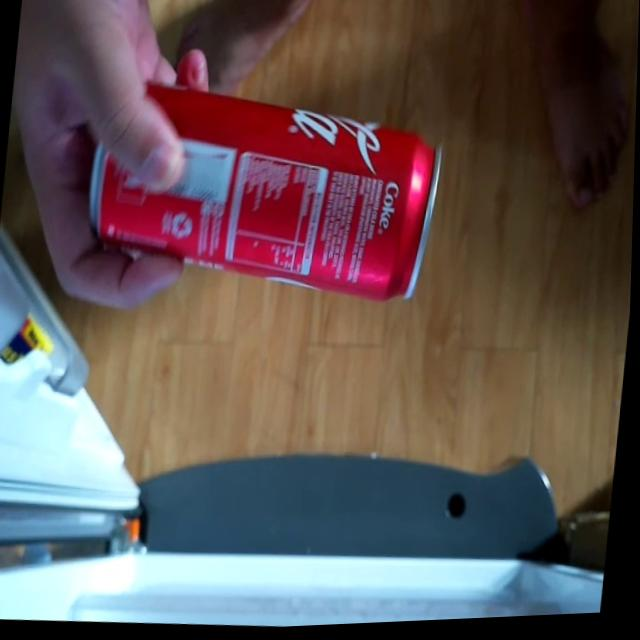coke: (73, 64, 456, 334)
